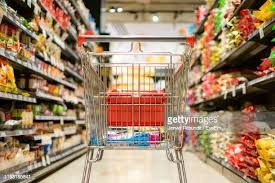with_basket: (77, 31, 195, 180)
